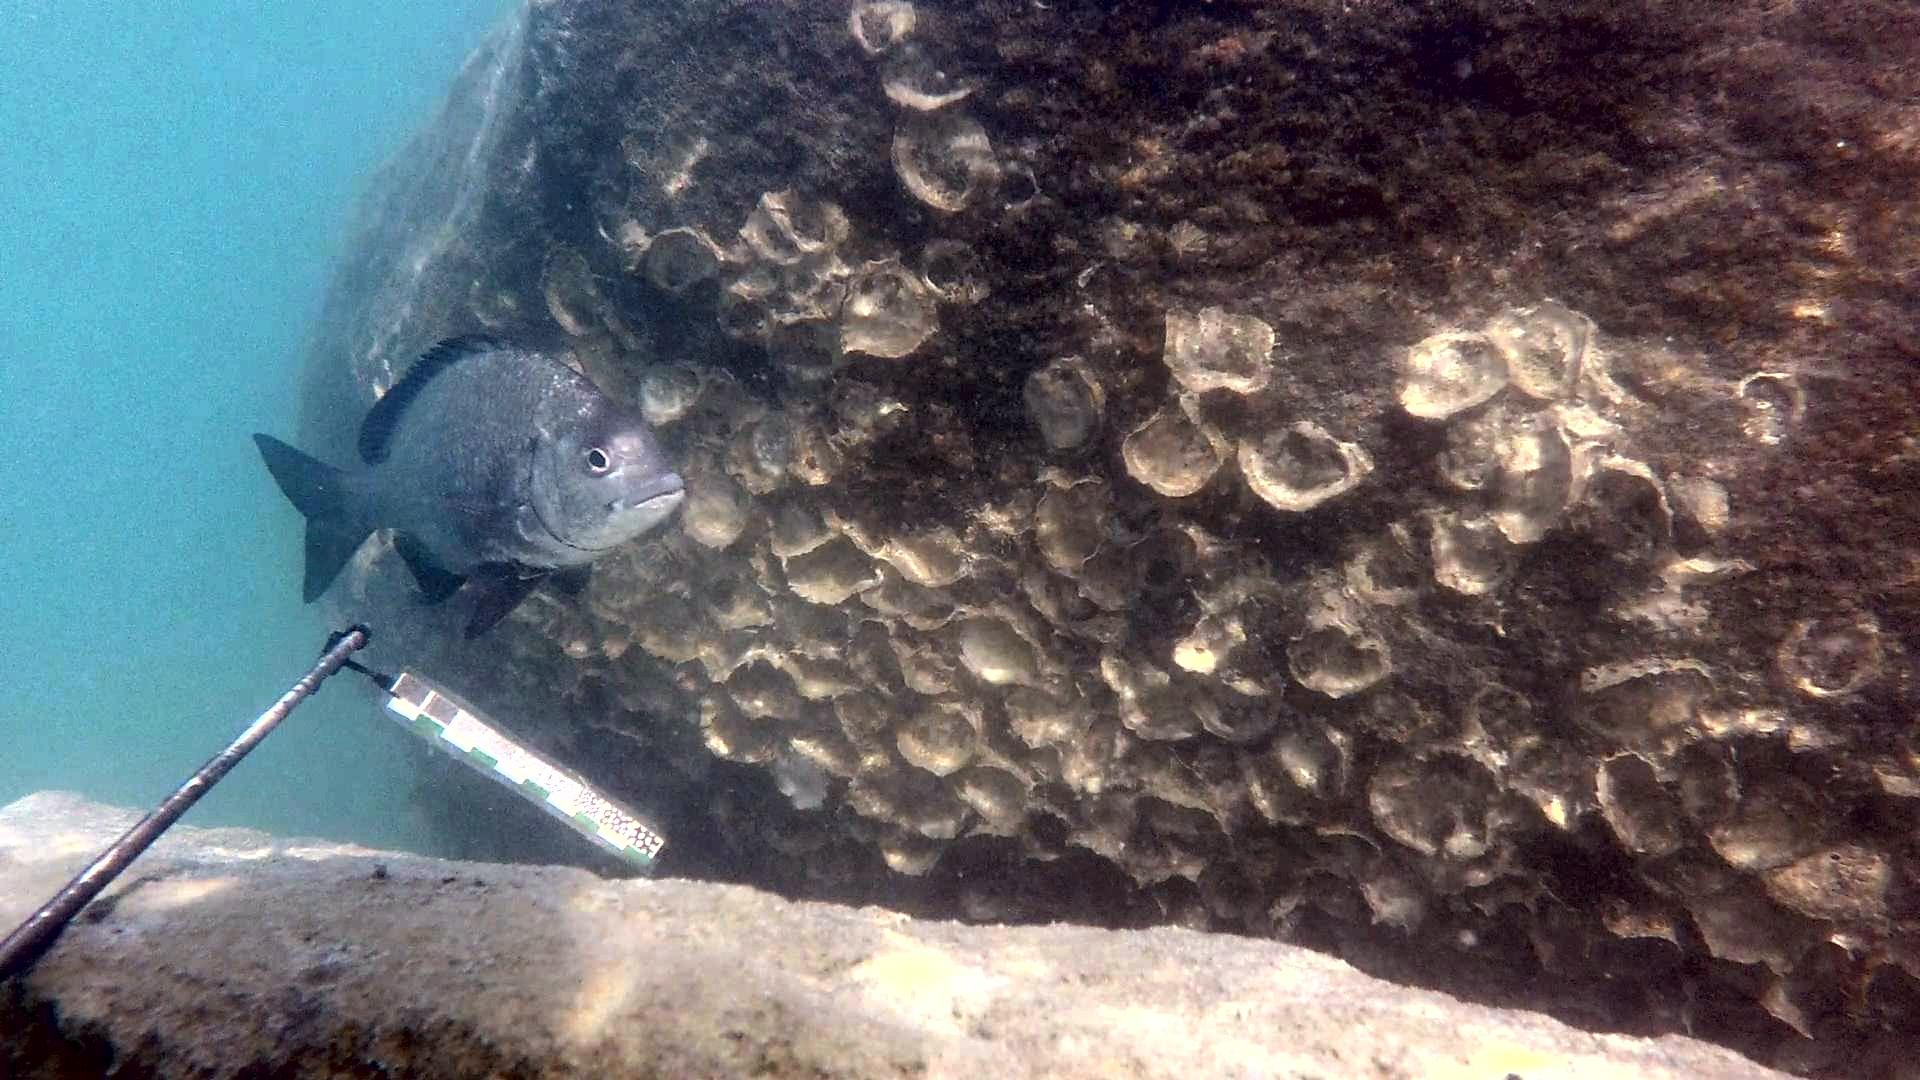acanthopagrus palmaris: (236, 326, 695, 650)
